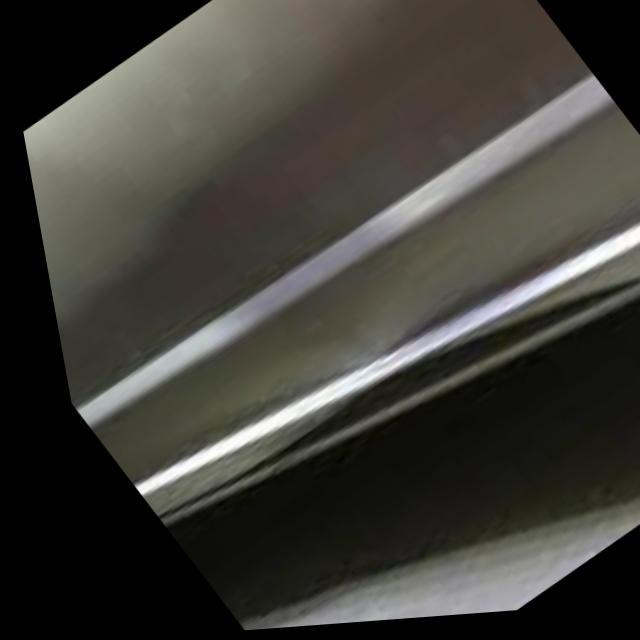rub: (148, 155, 418, 360)
